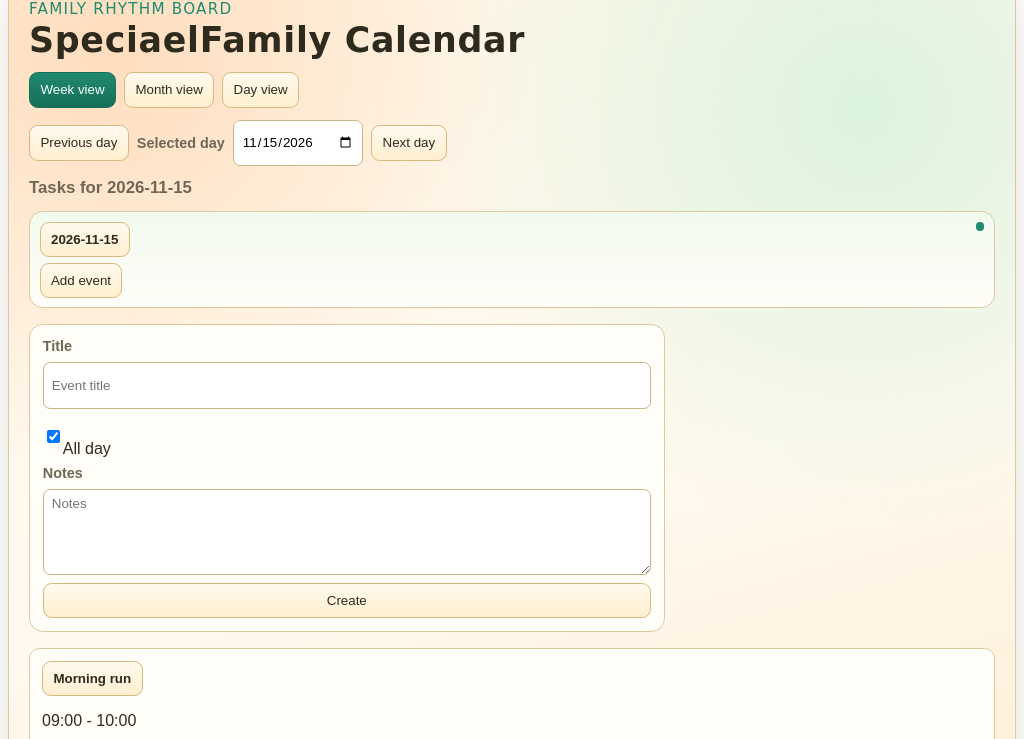
Scenario: calendar event details interactions › opens details in view mode from calendar event selection
This screenshot has width=1024, height=739.
Check: the element named "week-view" is shown, box [29, 211, 995, 308]
Click the button with aria-label "view-event-evt-1".
click(92, 678)  # box [42, 661, 142, 696]
(page scrolled)
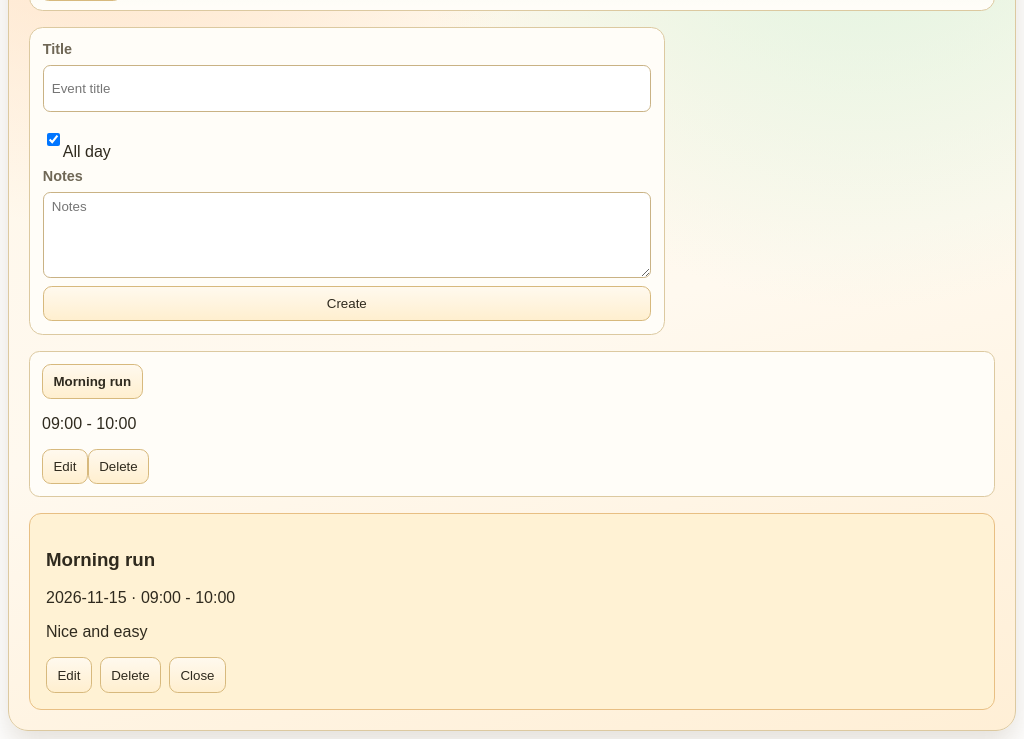
Check: the element named "event-details-panel" is shown, box [29, 513, 995, 710]
Check: the heading "Morning run" is shown, box [46, 549, 155, 570]
Check: the text "Nice and easy" is shown, box [46, 624, 147, 640]
